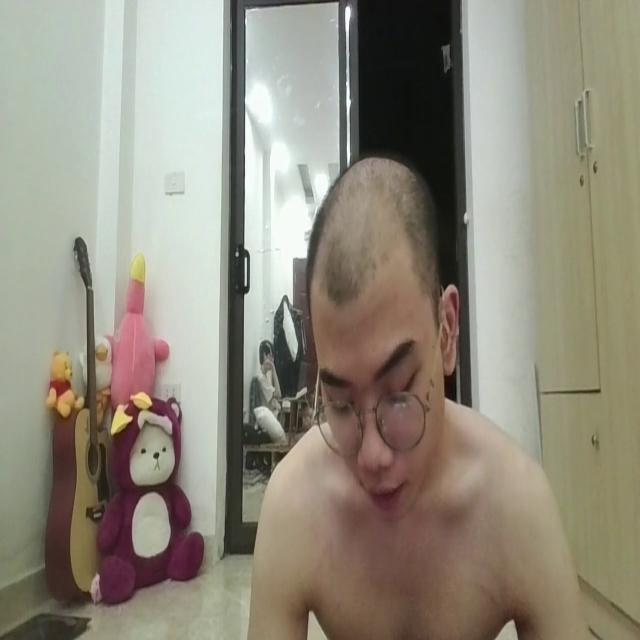extra_person: (248, 308, 294, 445)
student: (248, 149, 590, 640)
